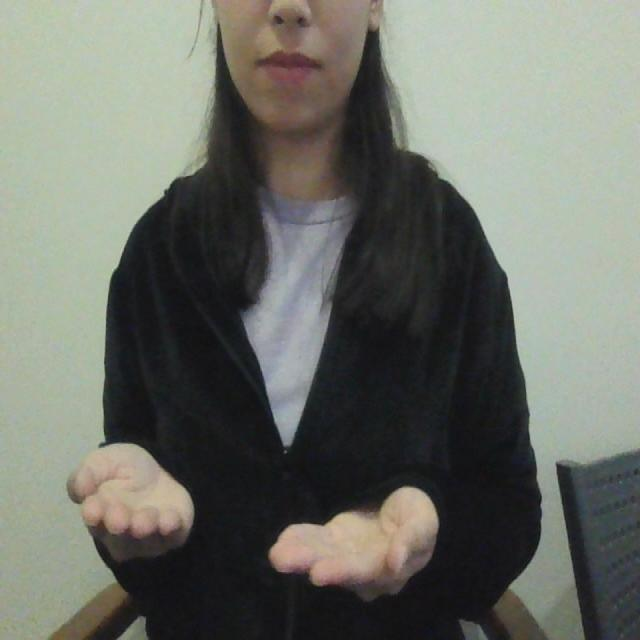Evet: (60, 436, 441, 612)
